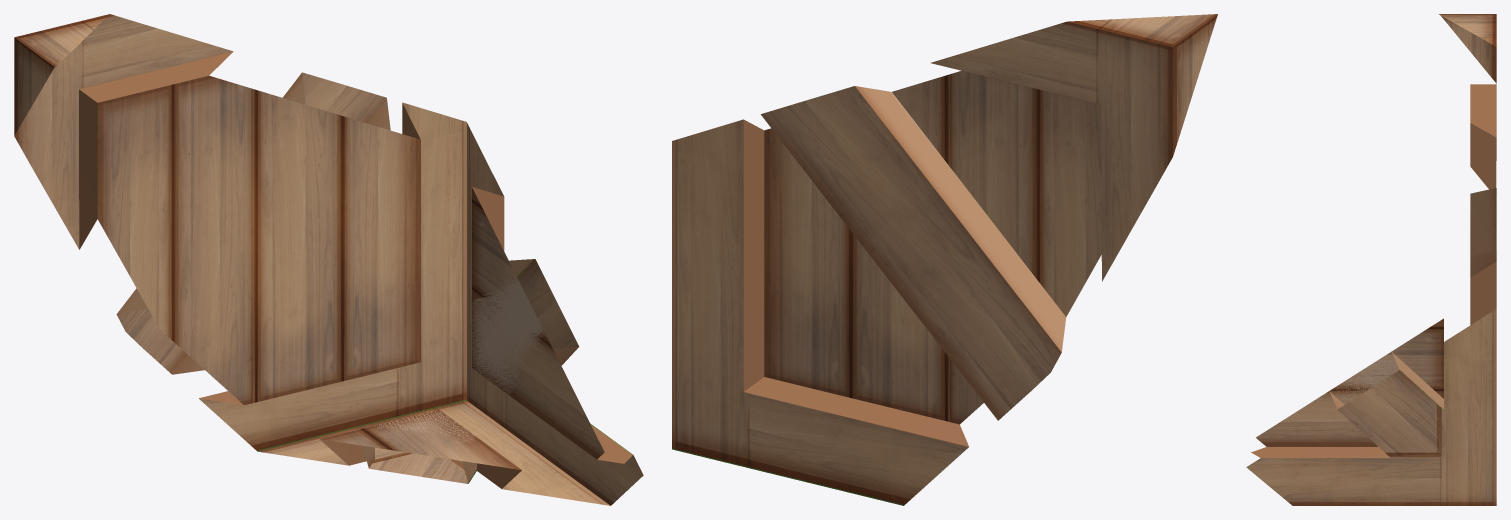
The model's file is brokenbox2.FBX.
The picture shows the model from 3 angles, left to right: view 1: azimuth 30°, elevation 25°; view 2: azimuth 150°, elevation 25°; view 3: azimuth 270°, elevation 25°; orthographic projection. The views are drawn at different scales.
Parts seen in each view (by area): view 1: Object001; view 2: Object001; view 3: Object001.
Part boxes in pixels (left/top/right/bottom): Object001: left=14, top=14, right=643, bottom=505; Object001: left=672, top=14, right=1217, bottom=505; Object001: left=1246, top=14, right=1496, bottom=505.
Size of the model in its own units: 1.4 by 1.4 by 0.9476.
